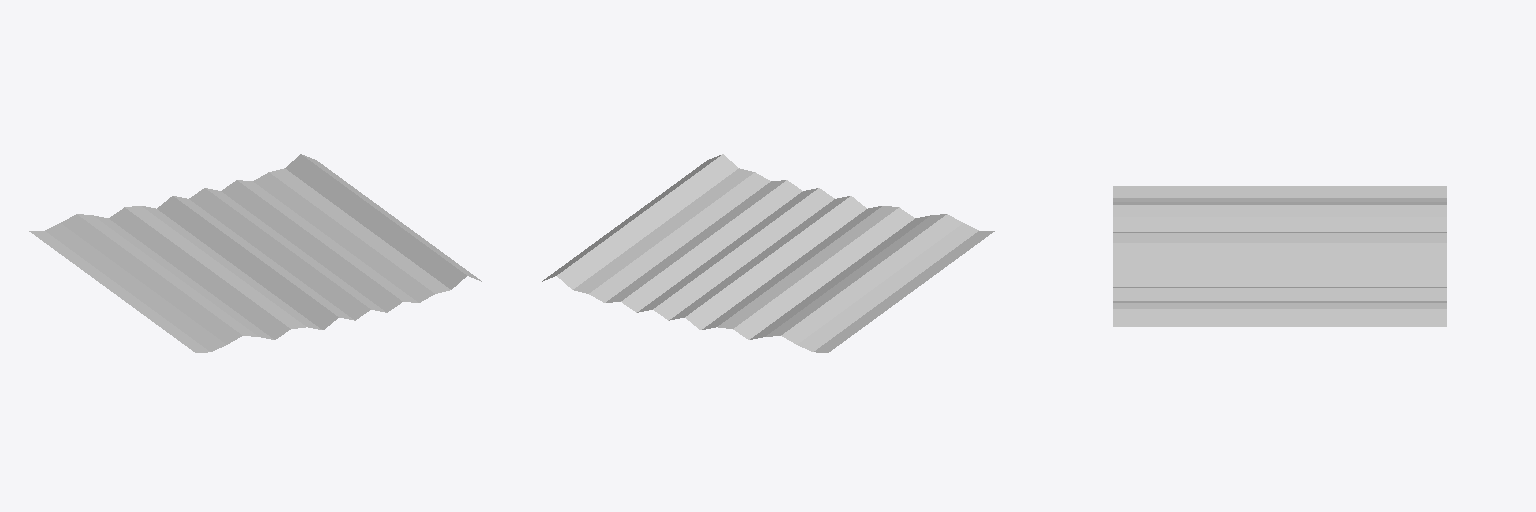
File: curtain.obj
3 views of the same model, side by side, from view 1: azimuth 30°, elevation 25°; view 2: azimuth 150°, elevation 25°; view 3: azimuth 270°, elevation 25° (orthographic).
Visible parts, largest first — view 1: Grid; view 2: Grid; view 3: Grid.
Part boxes in pixels (bbox=[...]): Grid: bbox=[29, 154, 481, 352]; Grid: bbox=[542, 154, 994, 352]; Grid: bbox=[1113, 186, 1446, 326].
Size of the model in its own units: 12.8 by 0.8296 by 12.8.